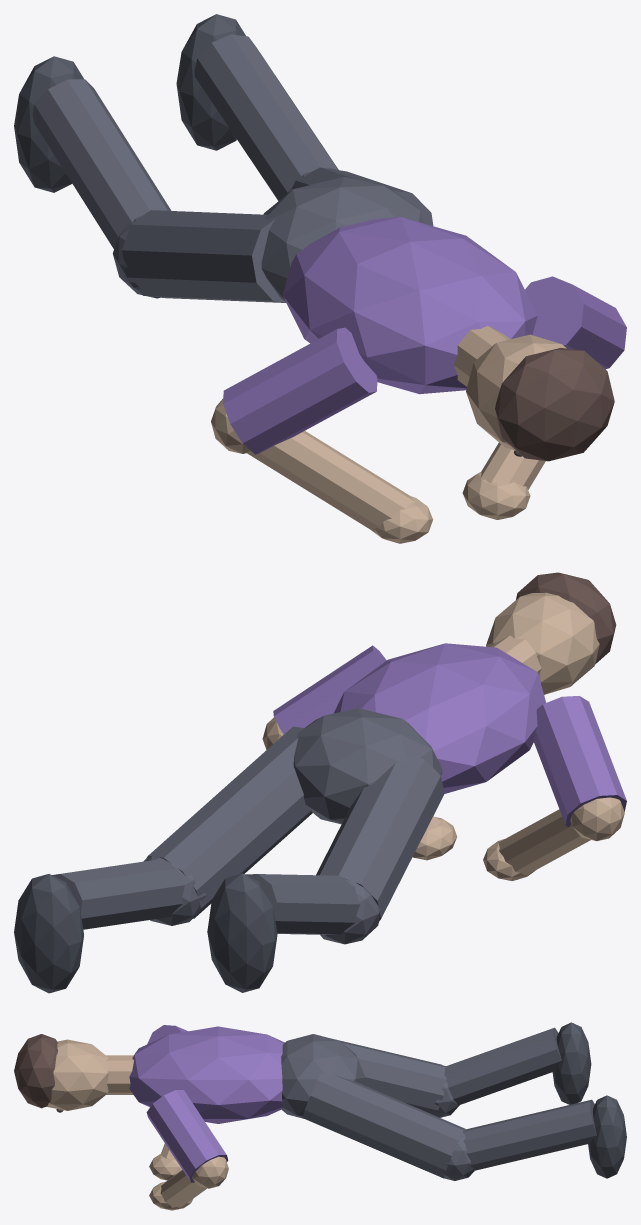
3 views of the same model, one above another, from view 1: azimuth 30°, elevation 25°; view 2: azimuth 150°, elevation 25°; view 3: azimuth 270°, elevation 25° (orthographic). The views are drawn at different scales.
Visible parts, largest first — view 1: world; view 2: world; view 3: world.
Boxes of the visible parts, box(x1,y1,x2,y2) form: world: box(14, 14, 626, 543); world: box(14, 572, 626, 993); world: box(14, 1022, 626, 1210).
Size of the model in its own units: 0.93 by 0.565 by 2.
